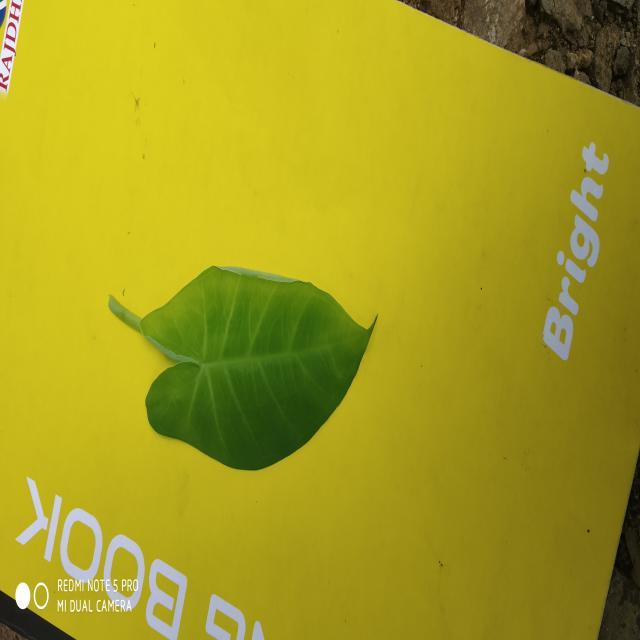leaf: (107, 263, 378, 471)
